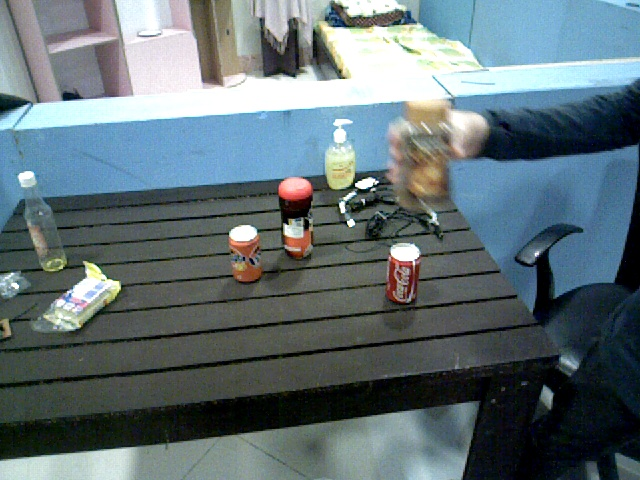coca: (390, 241, 418, 306)
coffee: (401, 100, 455, 212)
cream: (278, 176, 318, 264)
fanta: (226, 222, 264, 286)
